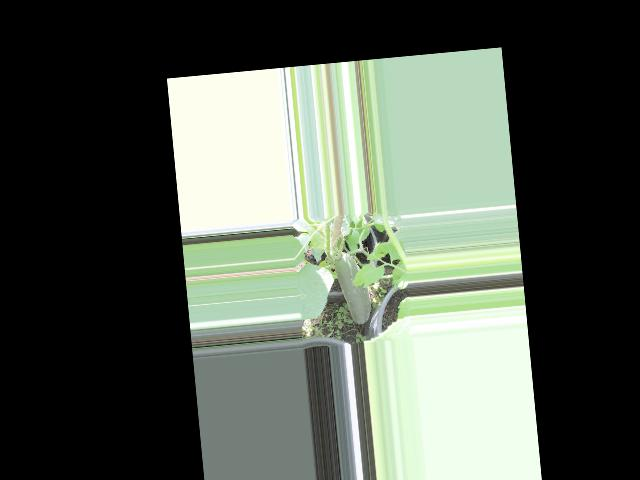cucumber: (333, 250, 372, 326)
